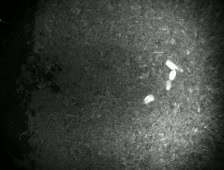corn: (162, 57, 179, 72), (142, 93, 156, 106), (173, 62, 185, 75), (167, 67, 178, 81), (163, 78, 173, 92)
